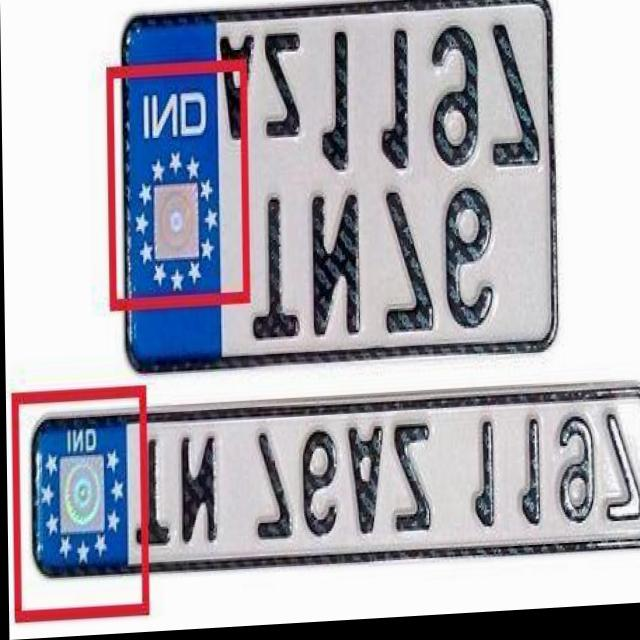1: (318, 32, 356, 177), (378, 34, 412, 182), (471, 419, 502, 535), (514, 419, 543, 538)
6: (442, 186, 501, 339), (299, 434, 337, 543)
7: (378, 185, 437, 343), (487, 25, 546, 178), (251, 435, 294, 547), (601, 416, 640, 534)
9: (427, 27, 485, 176), (554, 416, 596, 535)
a: (345, 425, 387, 541), (221, 32, 258, 159)
n: (309, 191, 365, 346), (177, 429, 221, 551)
t: (246, 197, 304, 350), (135, 435, 169, 554)
z: (391, 420, 433, 537), (262, 33, 304, 146)
